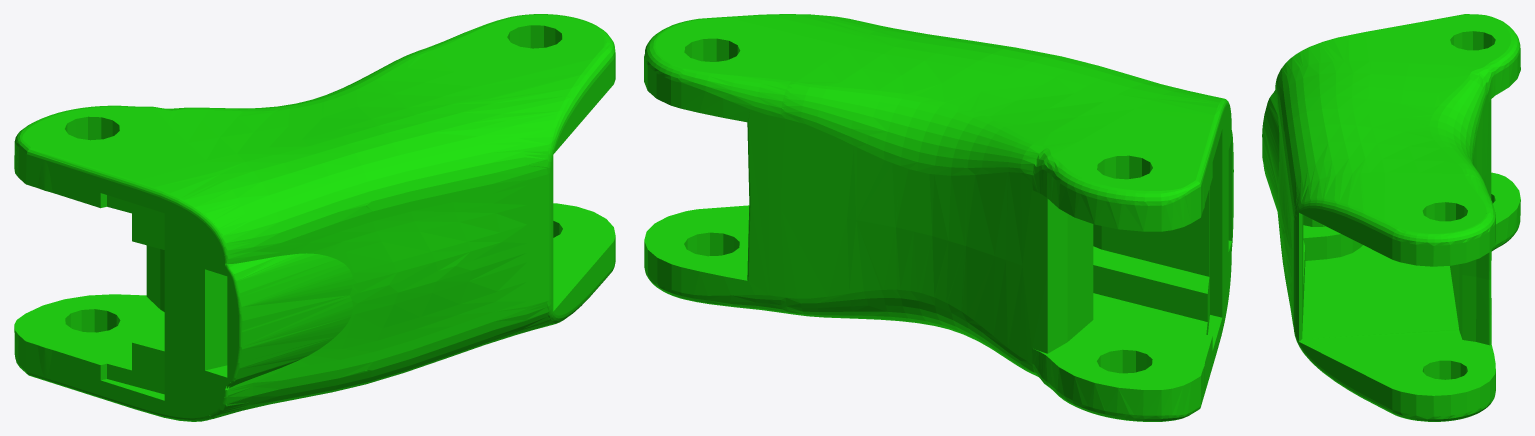
File: jaco_link_finger.min.dae
The picture shows the model from 3 angles, left to right: view 1: azimuth 30°, elevation 25°; view 2: azimuth 150°, elevation 25°; view 3: azimuth 270°, elevation 25°; orthographic projection. The views are drawn at different scales.
Visible parts, largest first — view 1: Component (×3); view 2: Component (×4); view 3: Component (×3).
Boxes of the visible parts, <box> form: Component (×3): <box>14,14,615,421</box>; Component (×4): <box>644,14,1233,421</box>; Component (×3): <box>1262,14,1520,421</box>.
Bounding box in the file's own units: 89.85 × 43.61 × 35.53.
Materials: 1 (1 with a texture image).
